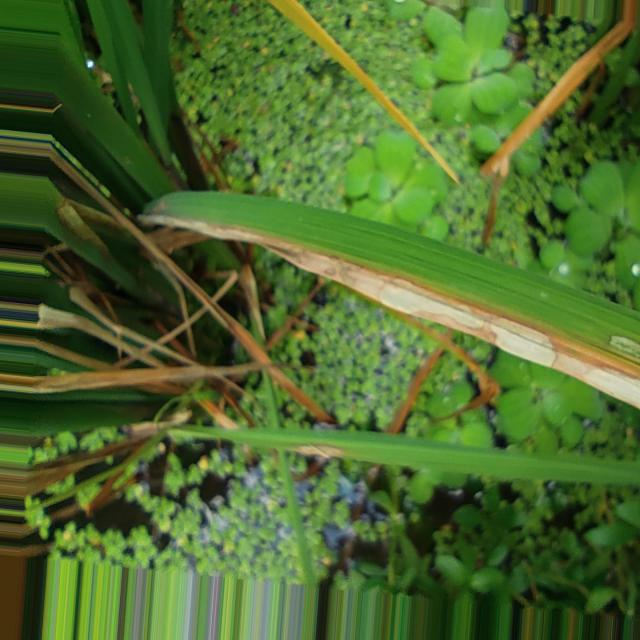Leaf_Blast: (269, 0, 459, 183), (148, 242, 334, 422), (481, 0, 638, 177), (387, 308, 500, 414)
Rice False Smut: (381, 277, 488, 340), (492, 317, 556, 367), (584, 368, 639, 402), (610, 336, 640, 359)
